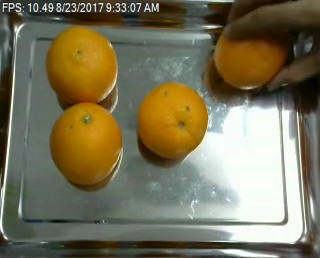Orange: (48, 101, 124, 187), (45, 24, 118, 103), (137, 79, 209, 159)
